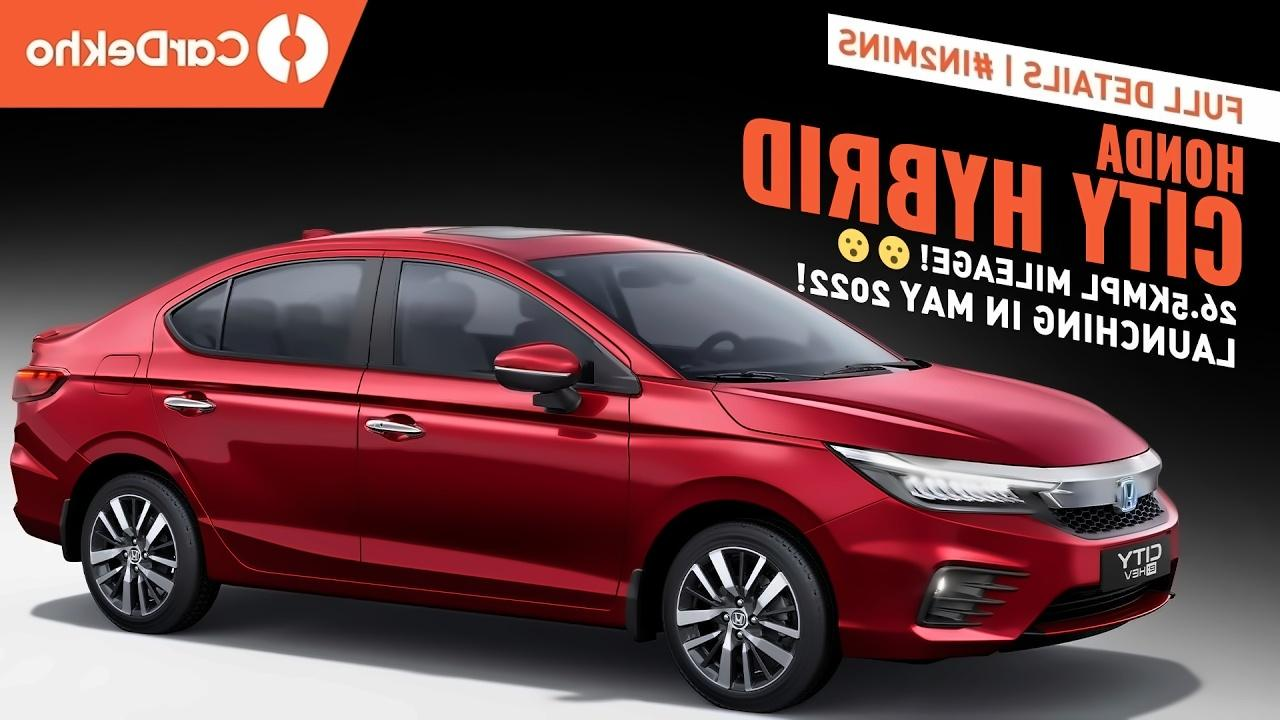Car hood: (714, 364, 1150, 468)
Driver-s door - -F-R-: (359, 237, 634, 611)
Fender - -F-R-: (610, 364, 891, 636)
Fender - -R-R-: (34, 339, 196, 521)
Front bumper: (816, 495, 1186, 669)
Headlight - -R-: (823, 432, 1048, 521)
Passenger-s door - -R-R-: (149, 233, 361, 587)
Rear bumper: (7, 402, 100, 573)
Rear light - -R-: (7, 352, 80, 407)
Side bumper - -R-: (193, 517, 634, 638)
Side mirror - -R-: (489, 329, 596, 419)
